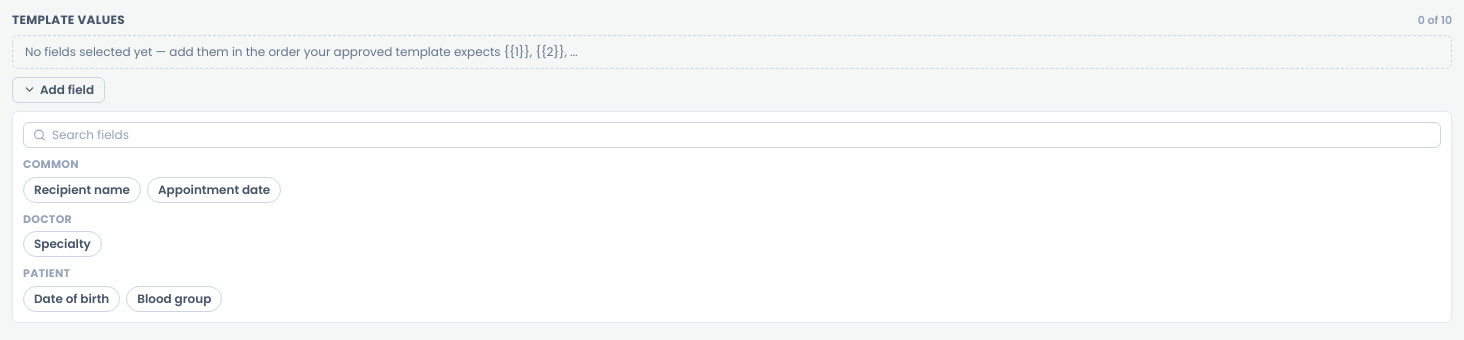
Test: TemplateFieldPicker › filters fields by search
Type "blood" into the search field labelled "Search fields" at point(732, 135), box [23,122,1441,148]
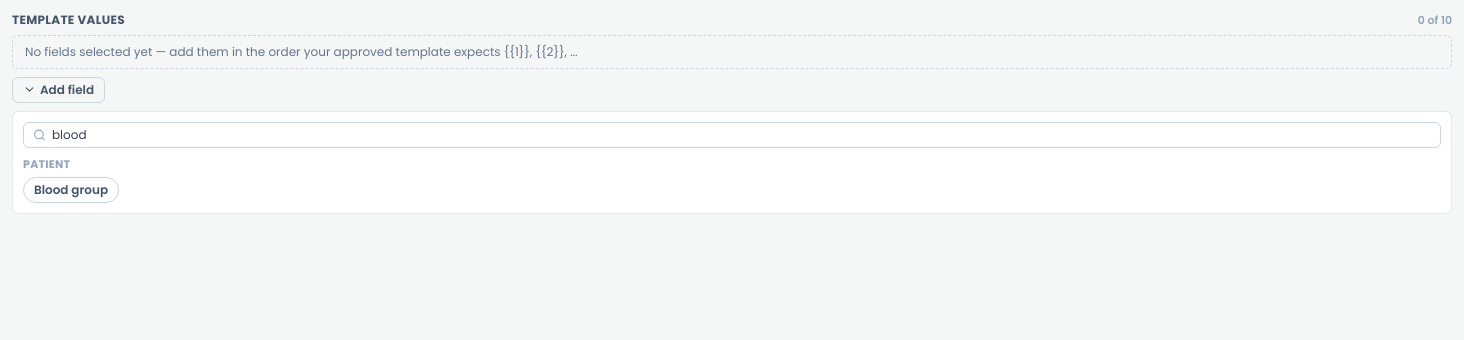
Expected: the button with aria-label "Patient · Blood group" is shown, [23,176,119,202]
Now the button "Recipient name" is gone
